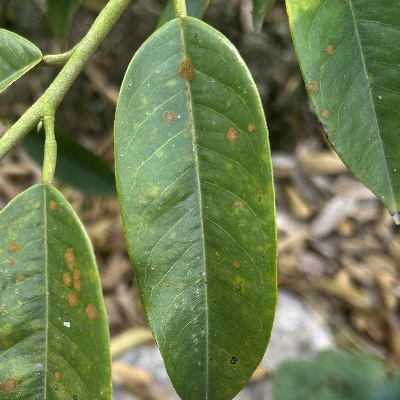Leaf_Algal: (112, 9, 280, 400)
